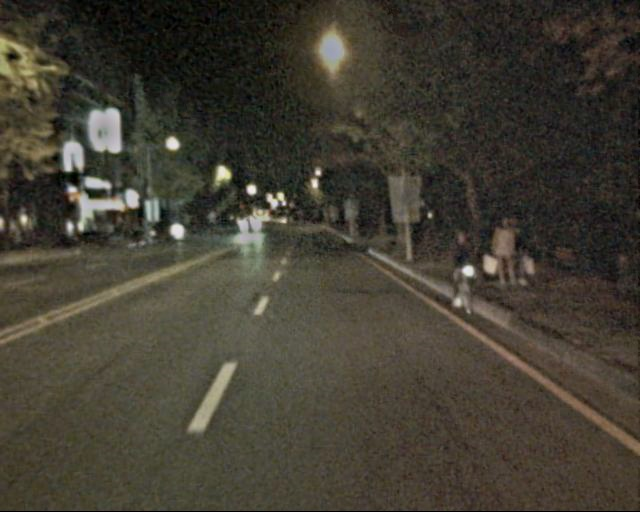person: (446, 231, 480, 313), (507, 217, 534, 284), (490, 220, 518, 284)
